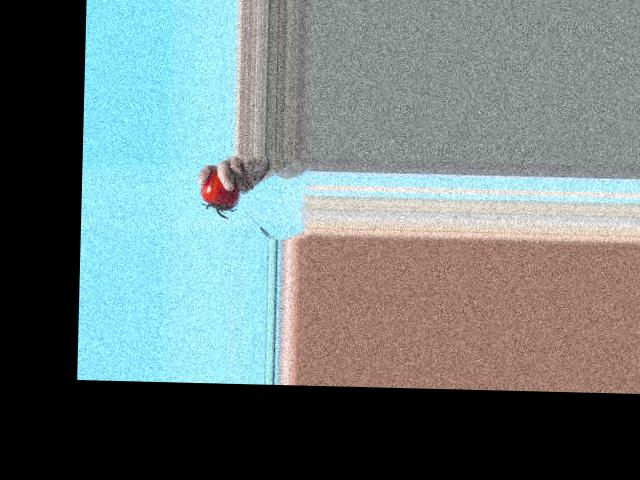tomato: (199, 170, 240, 210)
